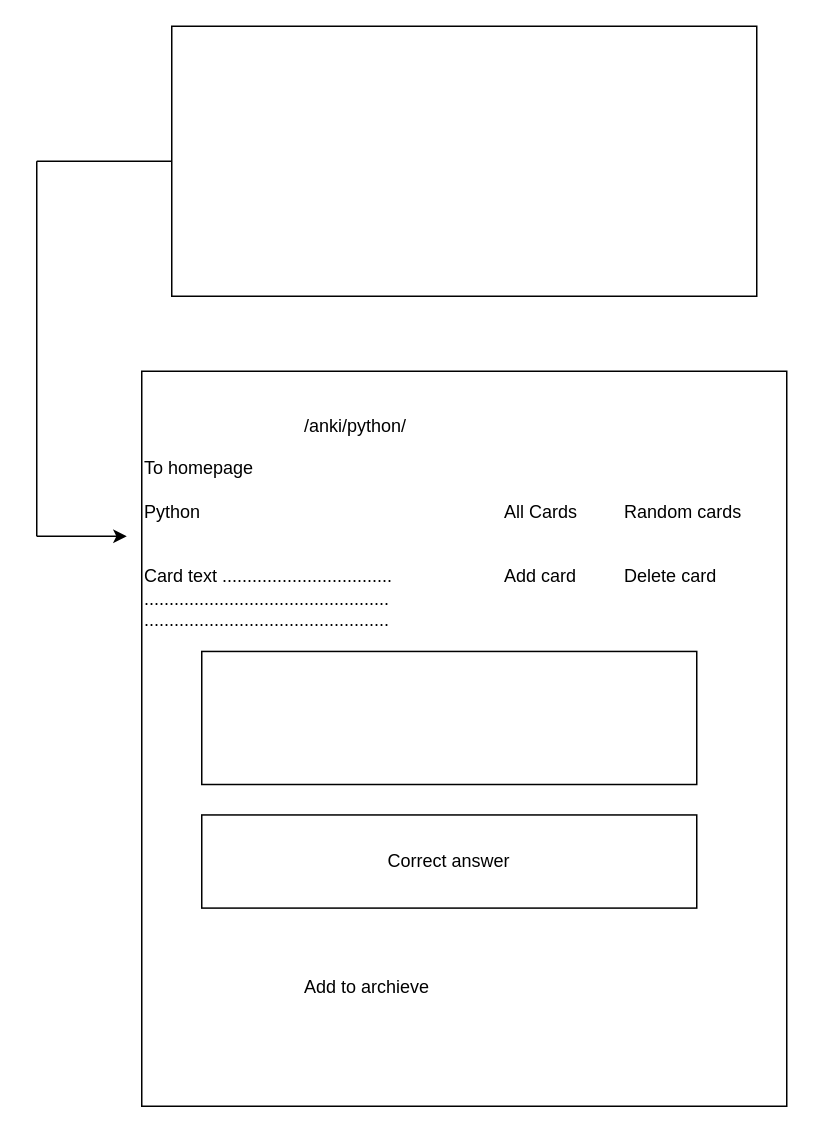
Image size: 813x1133. Some labels were removed from this diagram. Each missing label, with the centre of its shape:
"/anki List of Sections: Add section Python Django DRF" belongs at point 463,160.
"Input answer" belongs at point 448,717.
